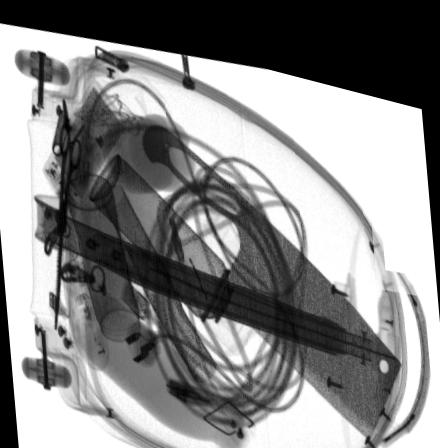Knife: (142, 116, 401, 420)
Powerbank: (41, 72, 133, 214)
Scissors: (53, 93, 83, 327)
Sprayer: (92, 148, 263, 342)
